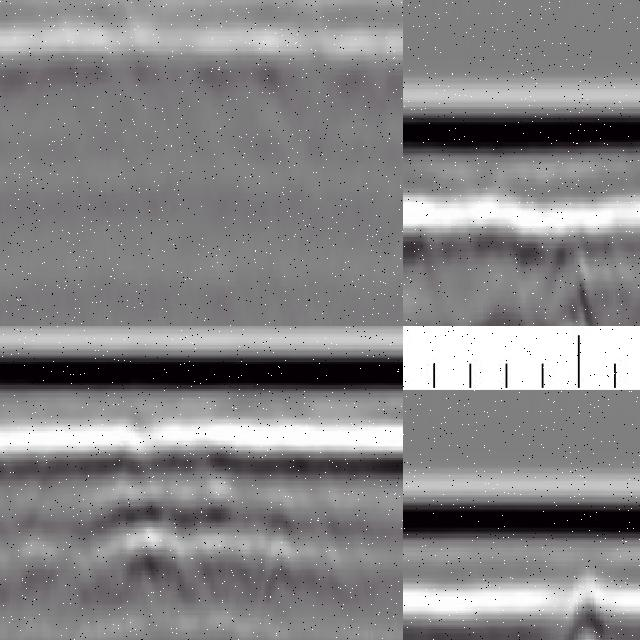crack: (557, 561, 616, 640)
loose: (84, 484, 323, 614), (454, 194, 640, 327)
